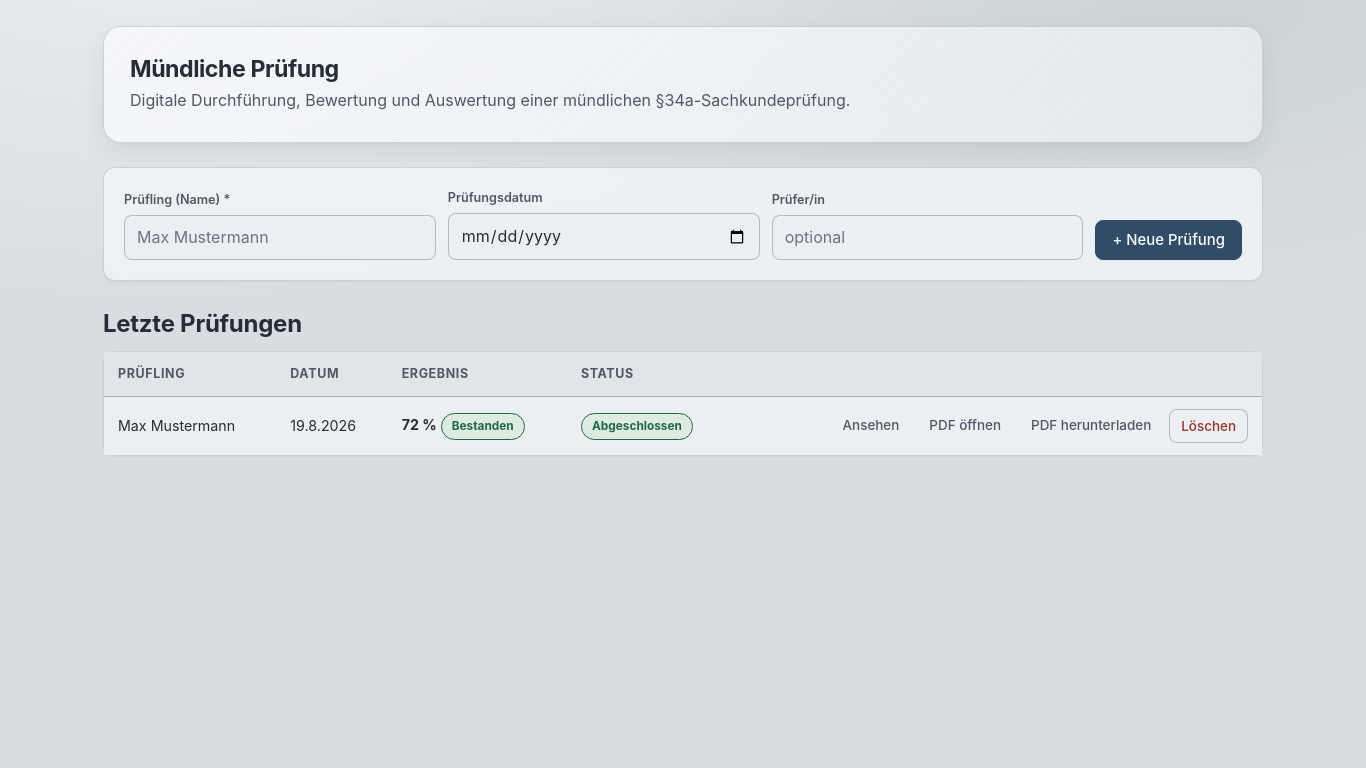
Test: delete confirmation › refreshes the overview after a successful delete
Click the button "Löschen" at [1209, 426], box [1169,409,1248,443]
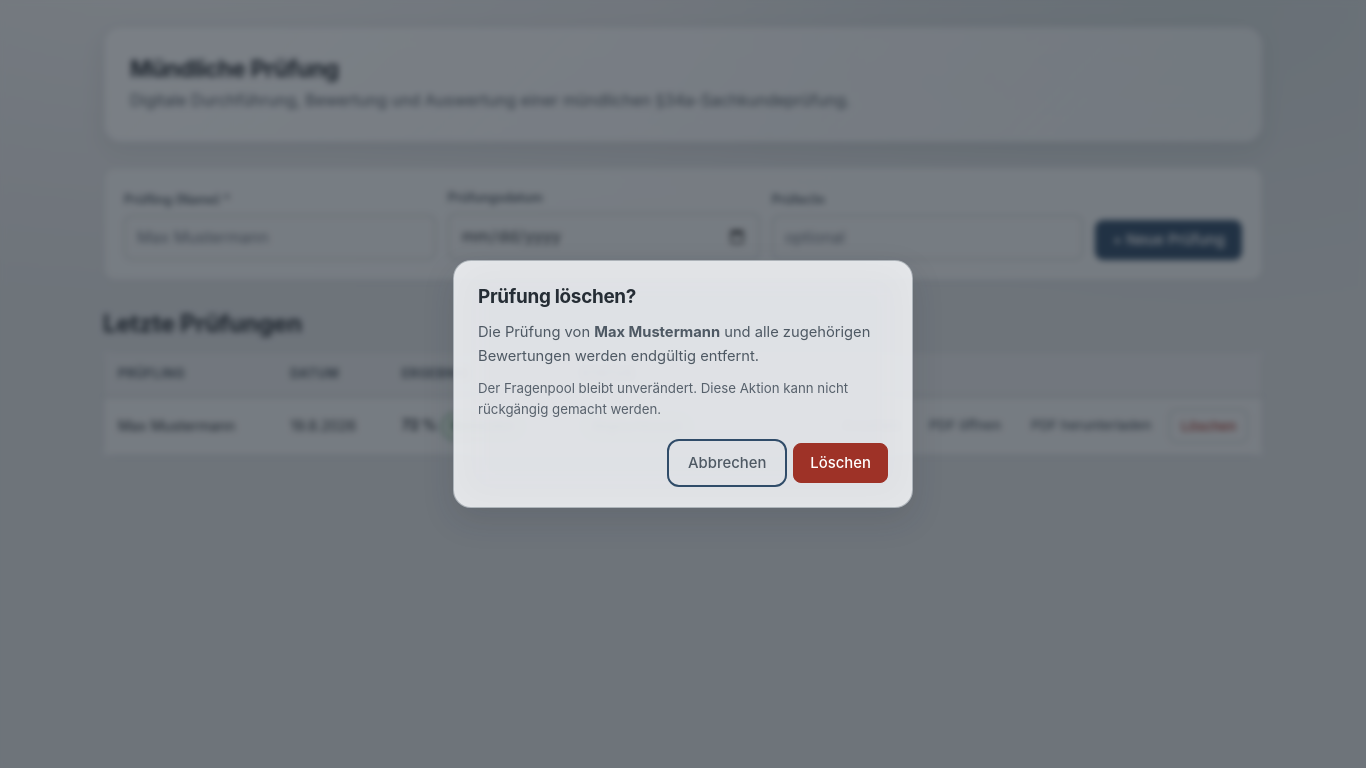
Click the button "Löschen" at [841, 463], box [793,443,888,483]
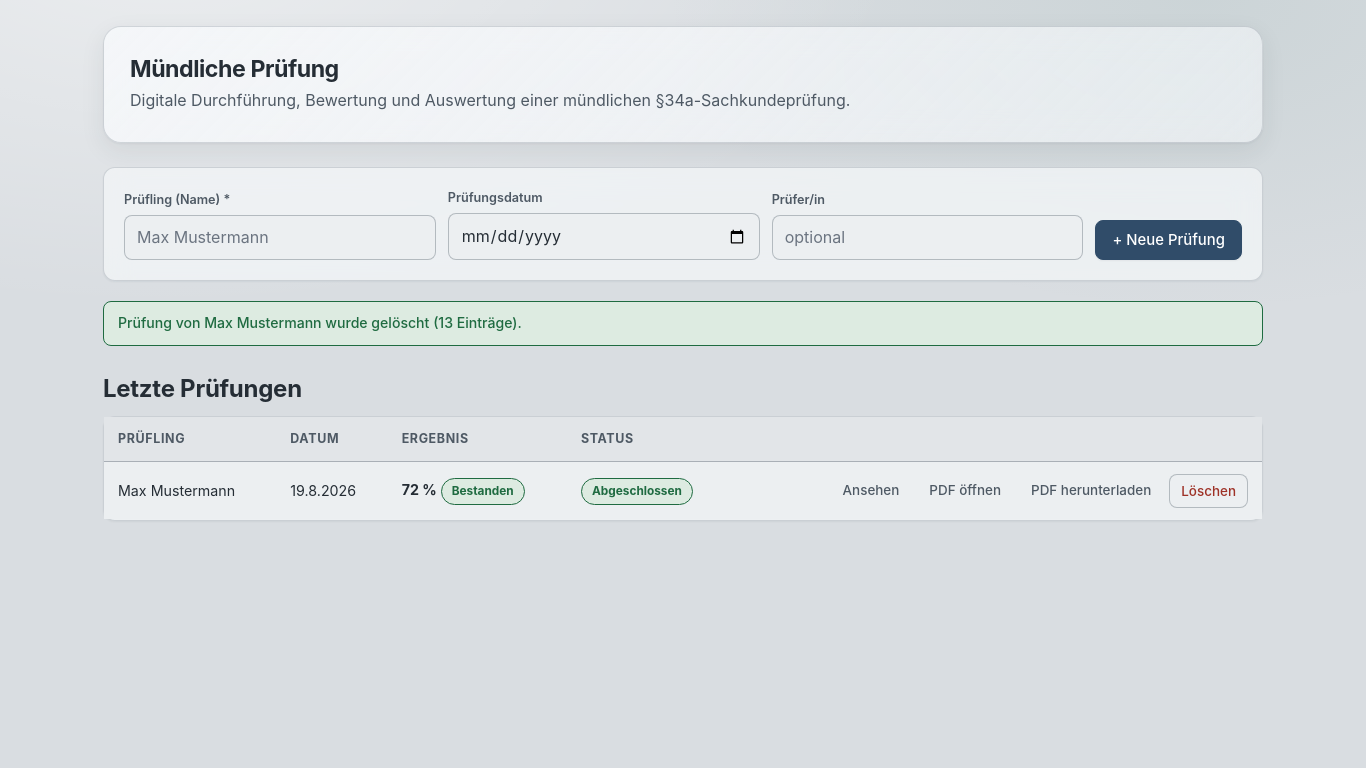
Expected: the text "Prüfung von Max Mustermann wurde gelöscht (13 Einträge)." is shown, [103,301,1263,346]
